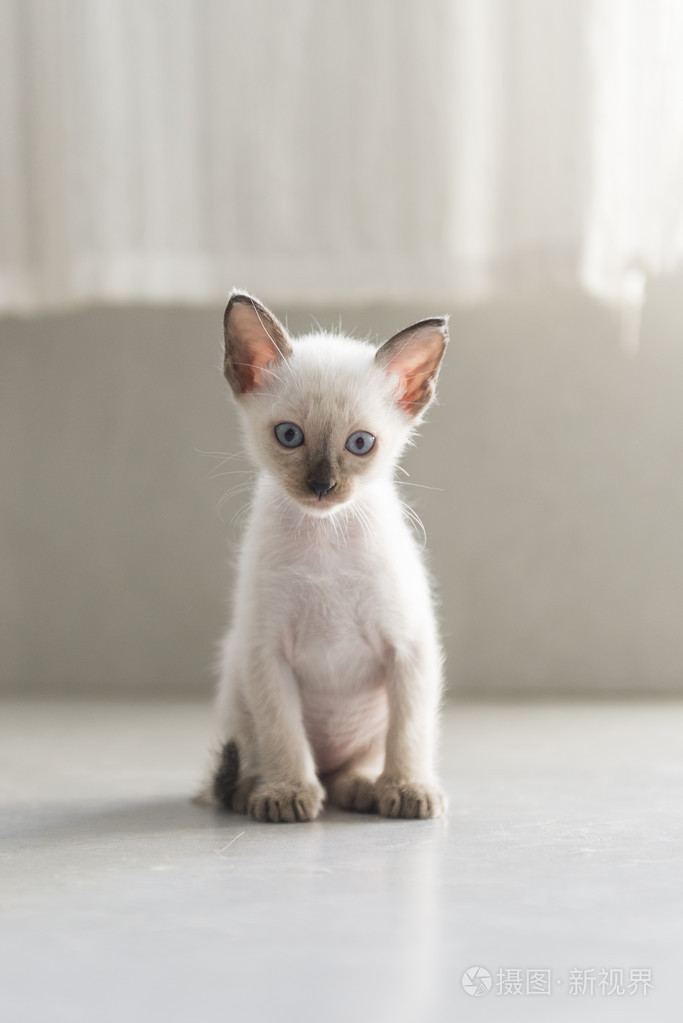cat: (183, 286, 457, 825)
